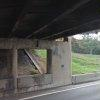Bridge: (3, 3, 87, 68)
